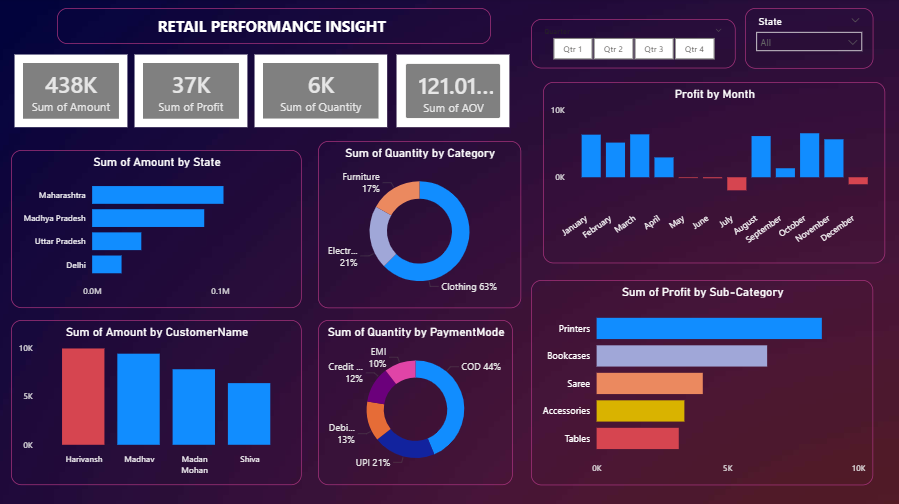

The dashboard page shown, as its layout file describes it:
{"tool":"powerbi","page":{"name":"Page 1","canvas":[1280,720],"ordinal":0},"visuals":[{"type":"textbox","box":[85,14.2,615.1,51],"z":0},{"type":"columnChart","title":"Profit by Month","fields":{"Y":["Details.Profit"],"Category":["Orders.Order Date.Variation.Date Hierarchy.Month"]},"box":[774.4,119.3,485.5,257],"z":1000},{"type":"barChart","fields":{"Category":["Details.Sub-Category"],"Y":["Details.Profit"]},"box":[757.4,399.3,484.9,291.3],"z":2000},{"type":"donutChart","fields":{"Category":["Details.Category"],"Y":["Details.Quantity"]},"box":[455,202.7,287.7,236.7],"z":3000},{"type":"donutChart","fields":{"Y":["Details.Quantity"],"Category":["Details.PaymentMode"]},"box":[455,456.4,276.4,233.9],"z":4000},{"type":"cardVisual","fields":{"Data":["Details.Amount"]},"box":[19.8,75.1,170.1,113.4],"z":5000},{"type":"cardVisual","fields":{"Data":["Details.Quantity"]},"box":[360,75.1,198.4,113.4],"z":6000},{"type":"cardVisual","fields":{"Data":["Details.Profit"]},"box":[189.9,75.1,170.1,113.4],"z":7000},{"type":"cardVisual","fields":{"Data":["Details.AOV"]},"box":[561.3,75.1,170.1,113.4],"z":8000},{"type":"barChart","fields":{"Category":["Orders.State"],"Y":["Details.Amount"]},"box":[19.8,215.4,412.4,223.9],"z":9000},{"type":"columnChart","fields":{"Category":["Orders.CustomerName"],"Y":["Details.Amount"]},"box":[19.8,456.4,412.4,233.9],"z":10000},{"type":"slicer","fields":{"Values":["Orders.Order Date.Variation.Date Hierarchy.Quarter"]},"box":[757.4,29.1,289.6,70.3],"z":11000},{"type":"slicer","fields":{"Values":["Orders.State"]},"box":[1060.7,13.7,181.6,85.7],"z":12000}]}

Visuals, with their boxes in screenshot pixels (x1, y1, x2, y2), scaled from the page's 1280x720 canvas onto the 899x504 screenshot:
textbox: x1=60 y1=10 x2=492 y2=46
"Profit by Month" columnChart: x1=544 y1=84 x2=885 y2=263
barChart - Details.Sub-Category x Details.Profit: x1=532 y1=280 x2=873 y2=483
donutChart - Details.Category x Details.Quantity: x1=320 y1=142 x2=522 y2=308
donutChart - Details.Quantity x Details.PaymentMode: x1=320 y1=319 x2=514 y2=483
cardVisual - Details.Amount: x1=14 y1=53 x2=133 y2=132
cardVisual - Details.Quantity: x1=253 y1=53 x2=392 y2=132
cardVisual - Details.Profit: x1=133 y1=53 x2=253 y2=132
cardVisual - Details.AOV: x1=394 y1=53 x2=514 y2=132
barChart - Orders.State x Details.Amount: x1=14 y1=151 x2=304 y2=308
columnChart - Orders.CustomerName x Details.Amount: x1=14 y1=319 x2=304 y2=483
slicer - Orders.Order Date.Variation.Date Hierarchy.Quarter: x1=532 y1=20 x2=735 y2=70
slicer - Orders.State: x1=745 y1=10 x2=873 y2=70
